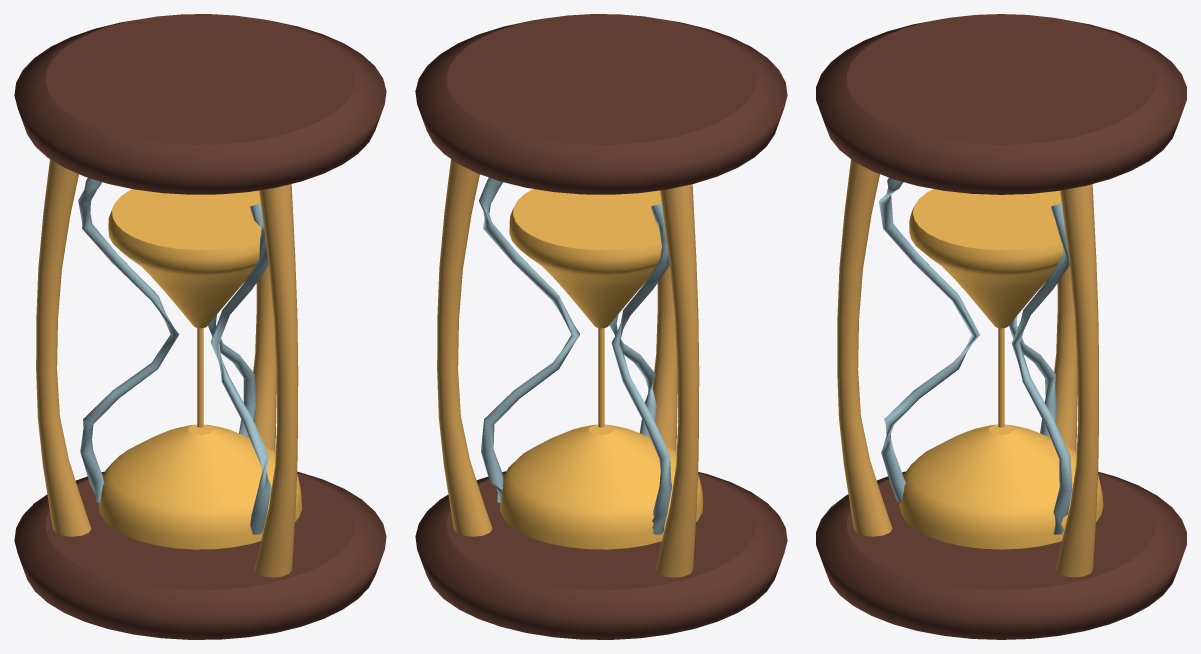
The model's file is atelier_hourglass.glb.
3 views of the same model, side by side, from view 1: azimuth 30°, elevation 25°; view 2: azimuth 150°, elevation 25°; view 3: azimuth 270°, elevation 25° (orthographic).
Parts seen in each view (by area): view 1: Reloj de arena; view 2: Reloj de arena; view 3: Reloj de arena.
Part boxes in pixels (box(x1,y1,x2,y2)): Reloj de arena: box(14, 14, 386, 639); Reloj de arena: box(415, 14, 787, 639); Reloj de arena: box(816, 14, 1186, 639).
Size of the model in its own units: 0.504 by 0.744 by 0.5023.
